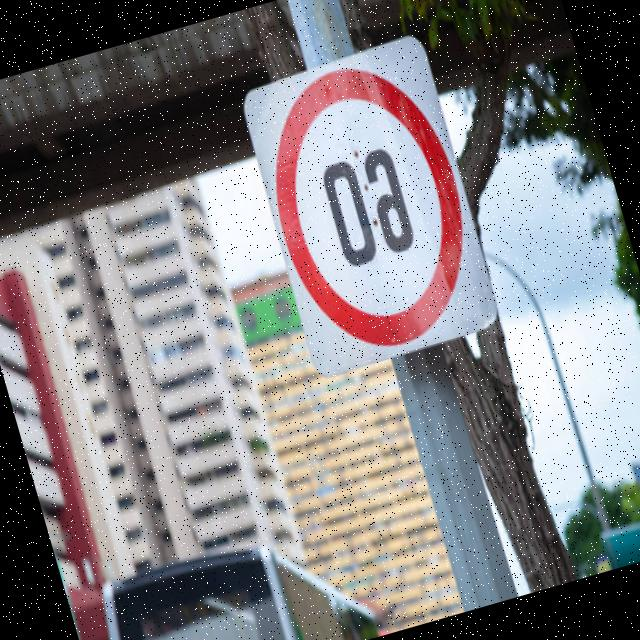speed_limit_60: (240, 42, 497, 367)
